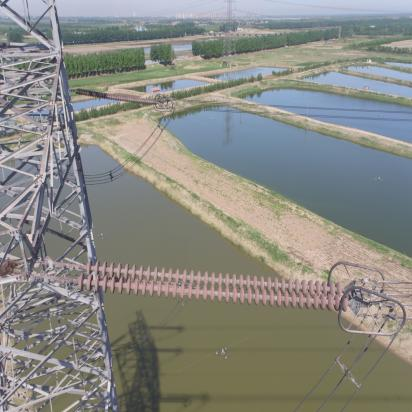insulator: (61, 258, 357, 314), (72, 87, 160, 107)
